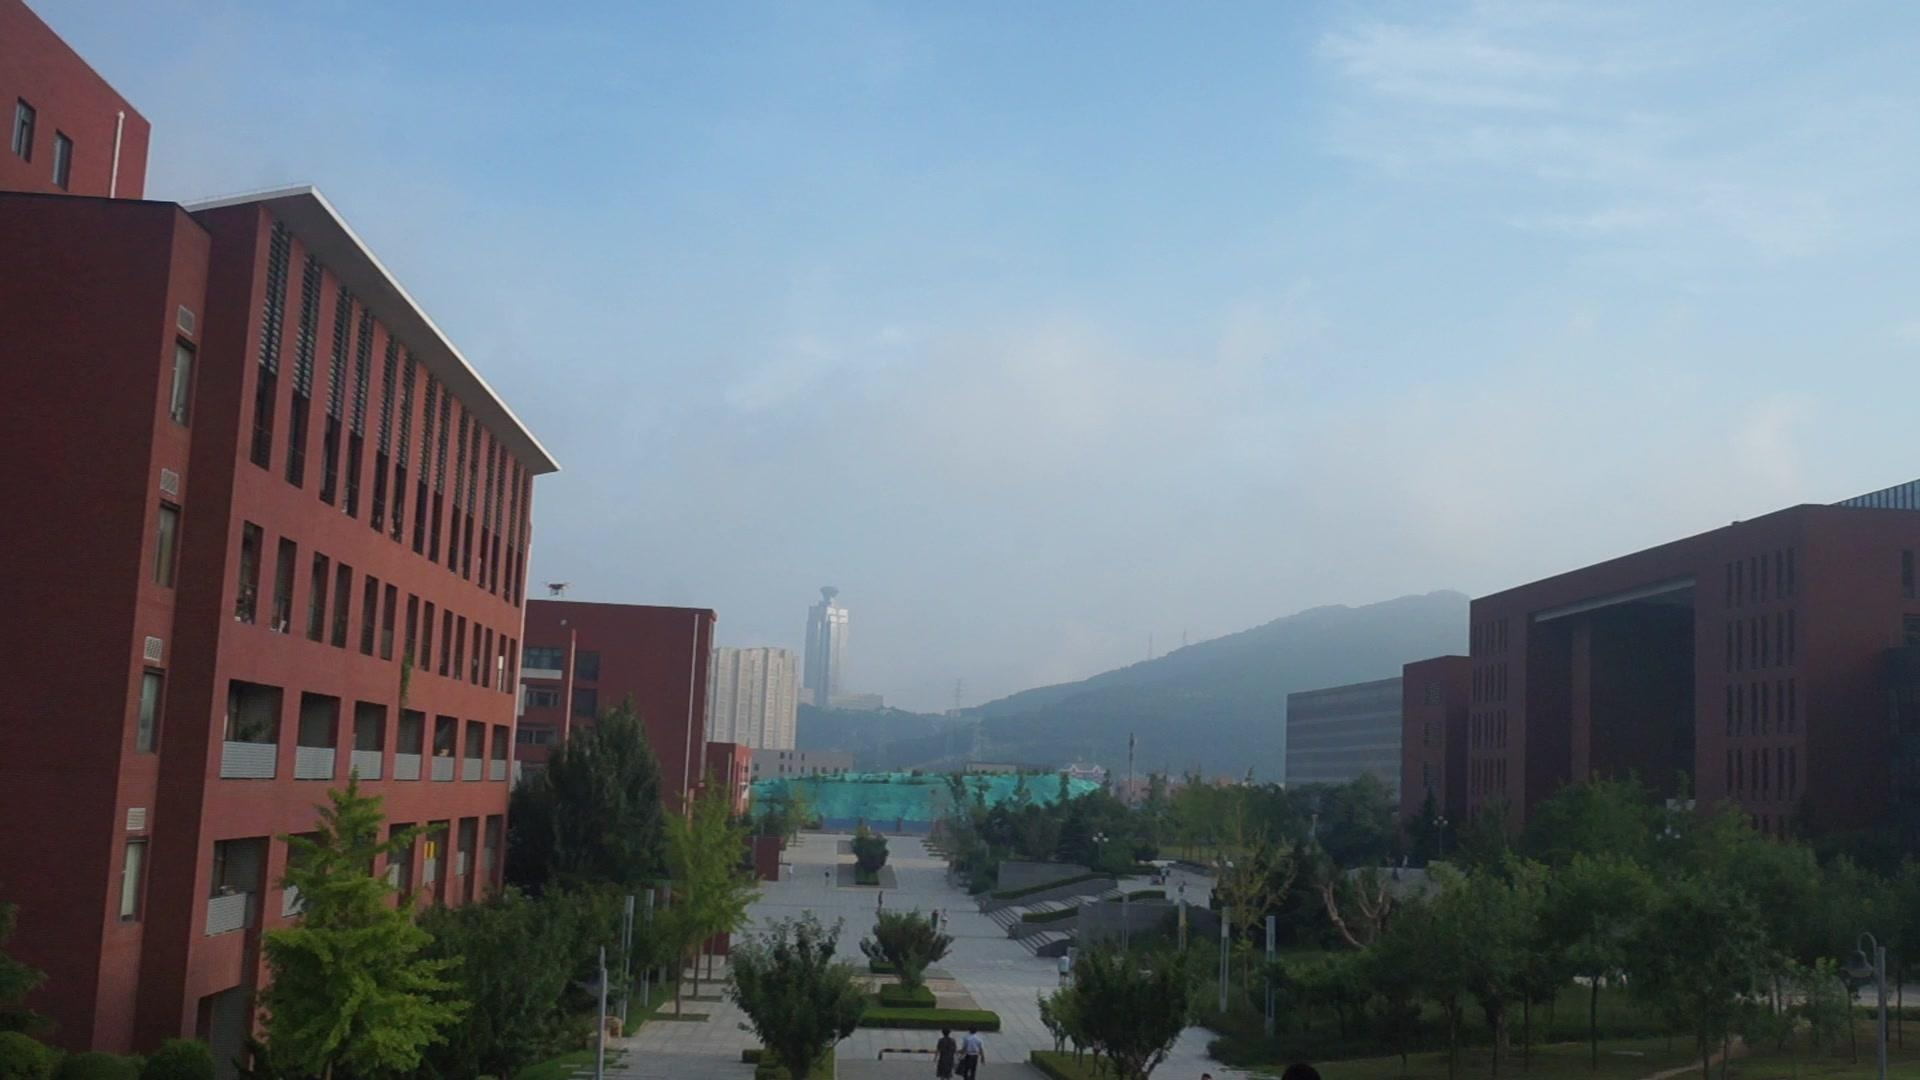UAV: (545, 582, 572, 597)
